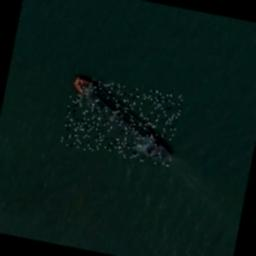boat: (60, 74, 184, 166)
